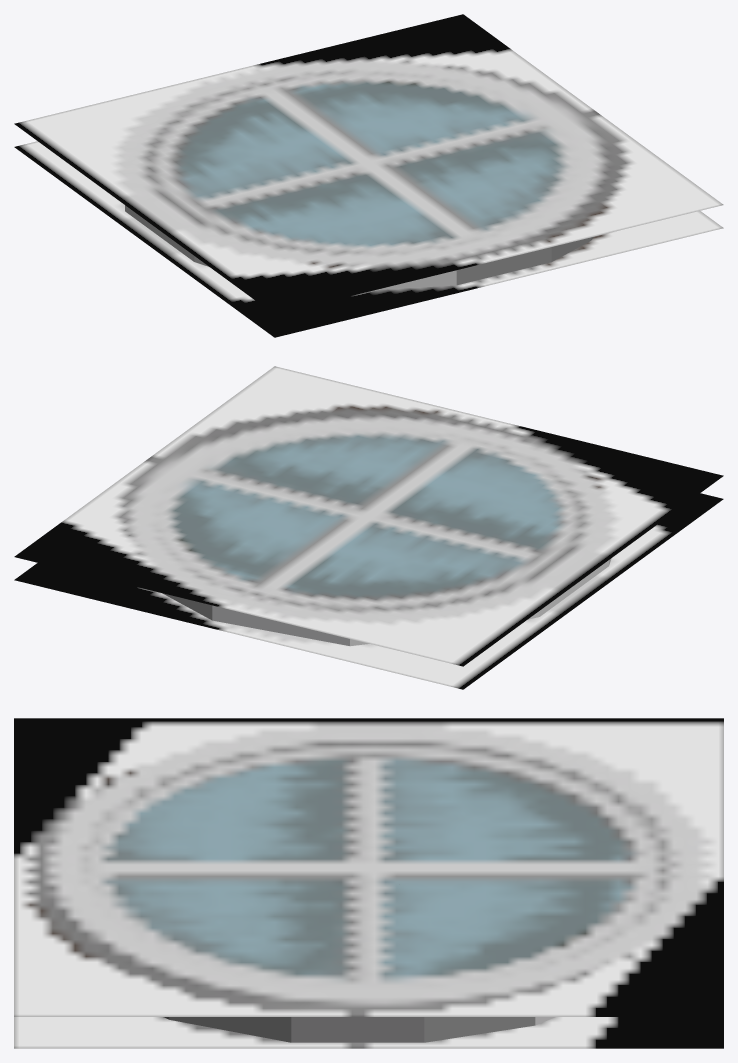
The model's file is pz_native_fixtures_windows_white_31_frame.obj.
3 renders of one model, top to bottom at view 1: azimuth 30°, elevation 25°; view 2: azimuth 150°, elevation 25°; view 3: azimuth 270°, elevation 25°, orthographic. The views are drawn at different scales.
Visible parts, largest first — view 1: pz_native_fixtures_windows_white_31_frame; view 2: pz_native_fixtures_windows_white_31_frame; view 3: pz_native_fixtures_windows_white_31_frame.
Part boxes in pixels (x1=…): pz_native_fixtures_windows_white_31_frame: x1=14, y1=14, x2=723, y2=337; pz_native_fixtures_windows_white_31_frame: x1=14, y1=366, x2=723, y2=689; pz_native_fixtures_windows_white_31_frame: x1=14, y1=718, x2=723, y2=1048.
Size of the model in its own units: 0.8125 by 0.04 by 0.8165.
Materials: 1 (1 with a texture image).
